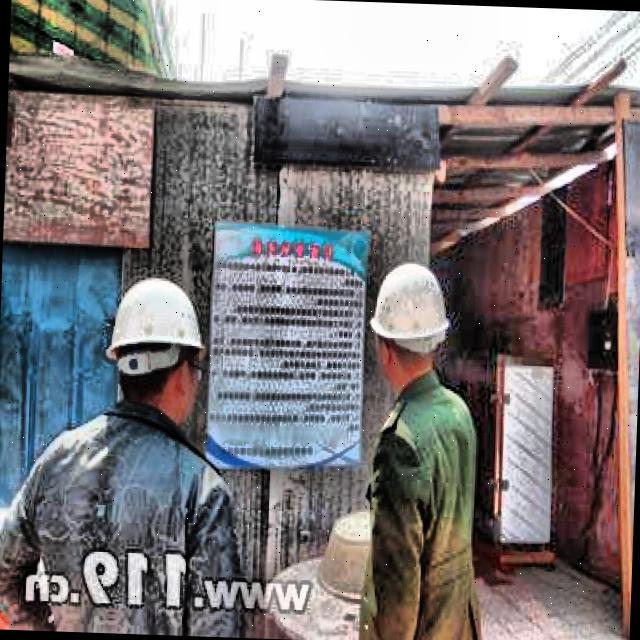helmet: (103, 266, 229, 430), (356, 240, 458, 400)
